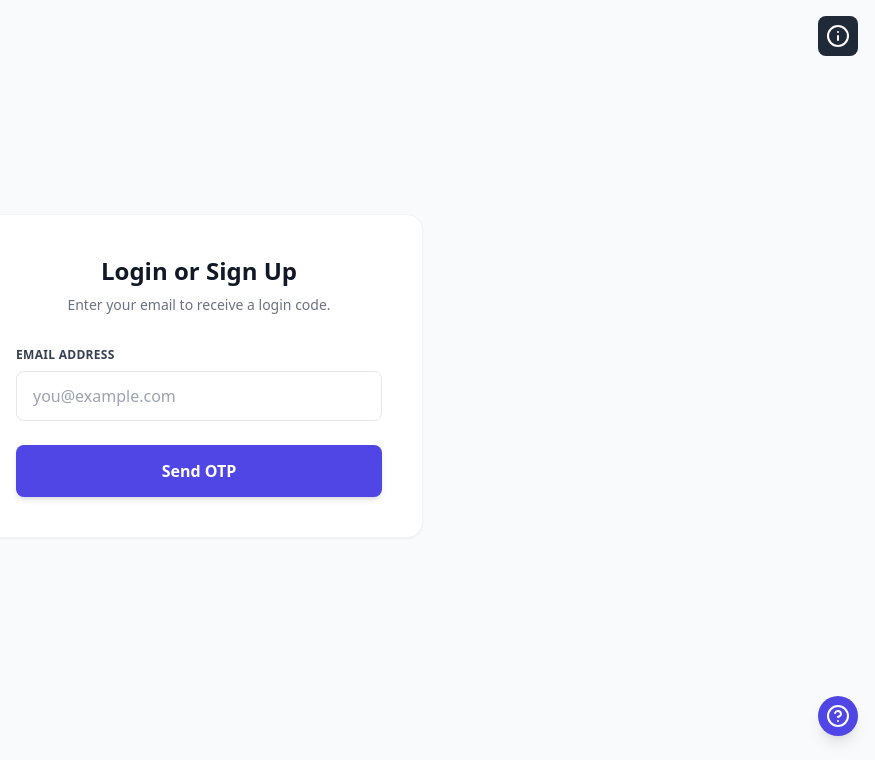
Test: LoginPage › displays error message on API failure
Type "fail@example.com" into the field with placeholder "you@example.com" at (199, 396), box [16, 371, 382, 421]
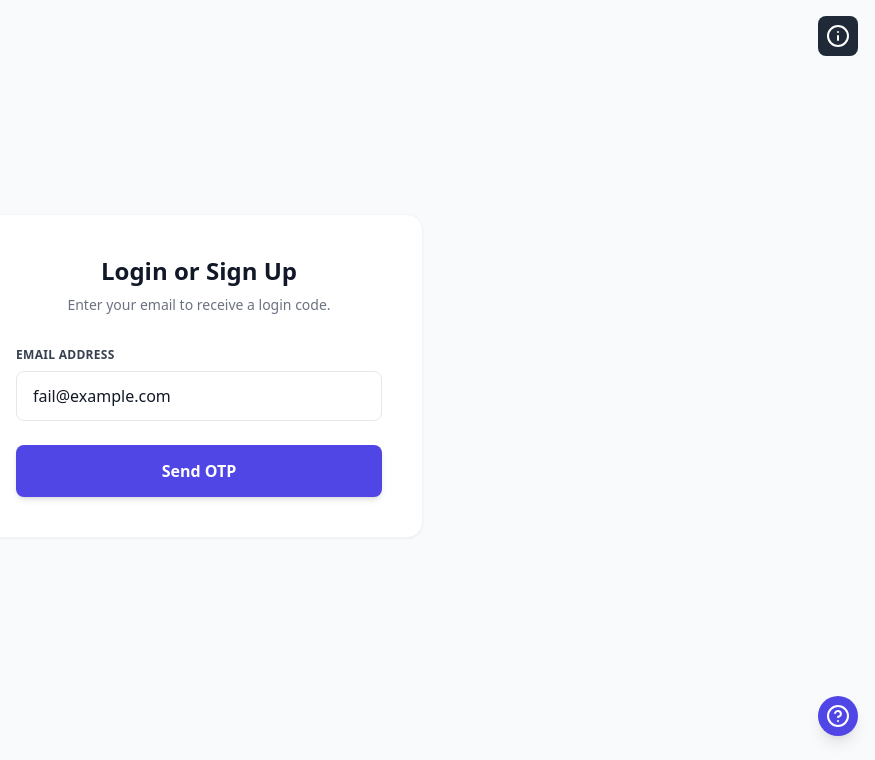
Click the button "Send OTP" at (199, 471), box [16, 445, 382, 497]
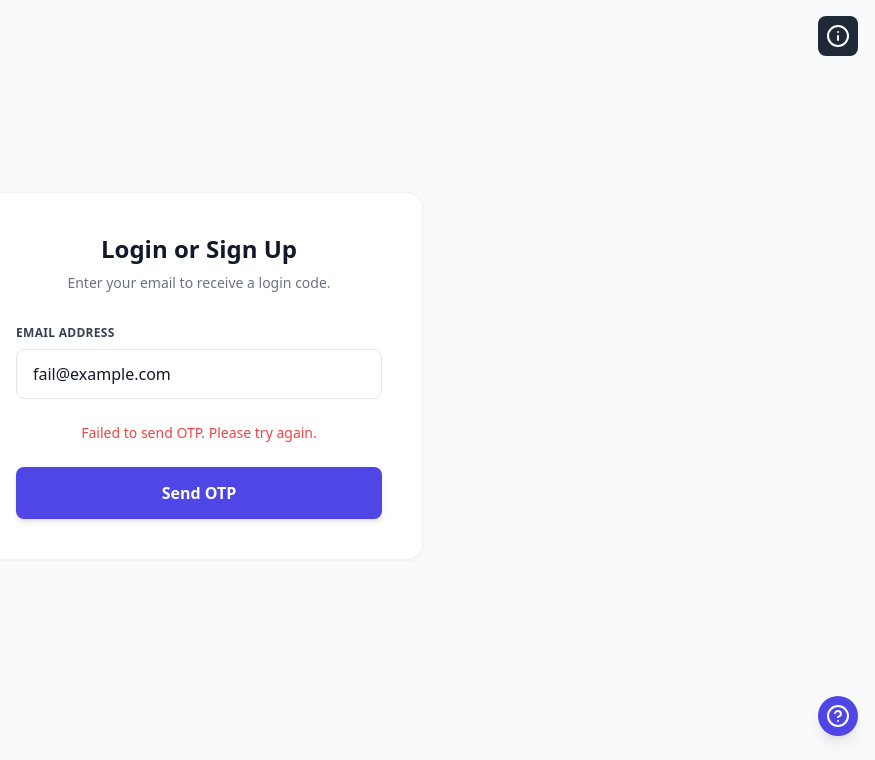
Expected: the text "Failed to send OTP. Please try again." is shown, [81, 423, 317, 442]
